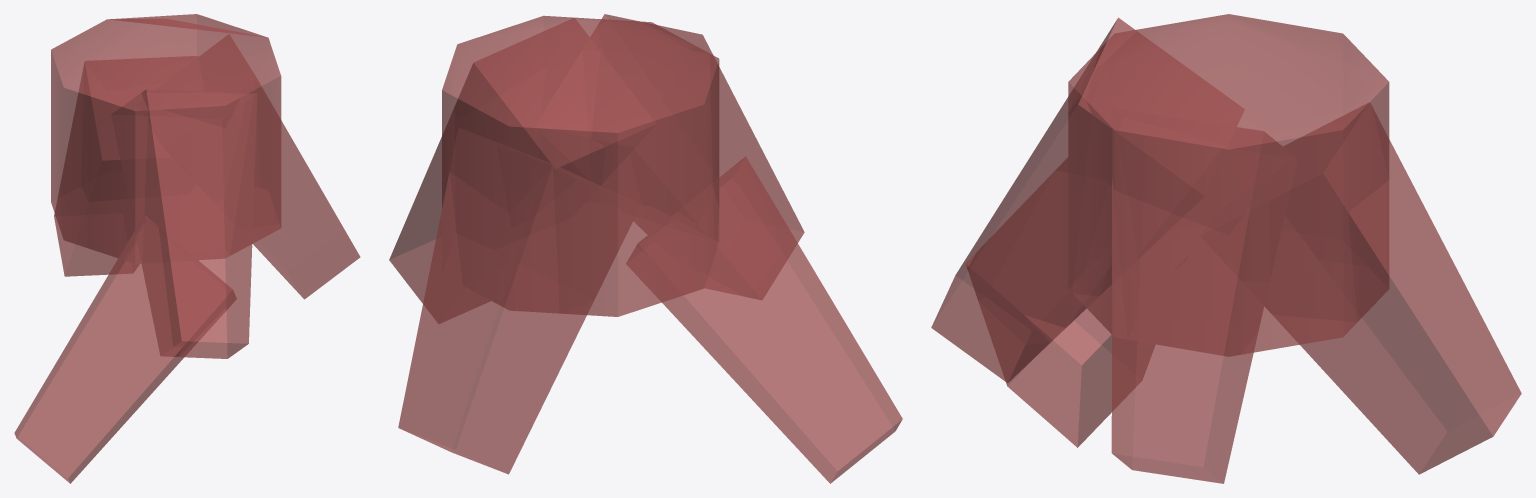
The model's file is SM_Env_Tree_Root_Clump_02_Collision.fbx.
3 renders of one model, left to right at view 1: azimuth 30°, elevation 25°; view 2: azimuth 150°, elevation 25°; view 3: azimuth 270°, elevation 25°, orthographic. The views are drawn at different scales.
Visible parts, largest first — view 1: SM_Env_Tree_Root_Clump_02_Collision; view 2: SM_Env_Tree_Root_Clump_02_Collision; view 3: SM_Env_Tree_Root_Clump_02_Collision.
Boxes of the visible parts, x1,y1,x2,y2 form: SM_Env_Tree_Root_Clump_02_Collision: (14,14,360,483); SM_Env_Tree_Root_Clump_02_Collision: (389,14,902,483); SM_Env_Tree_Root_Clump_02_Collision: (931,14,1521,483).
Bounding box in the file's own units: 242 × 238 × 242.
